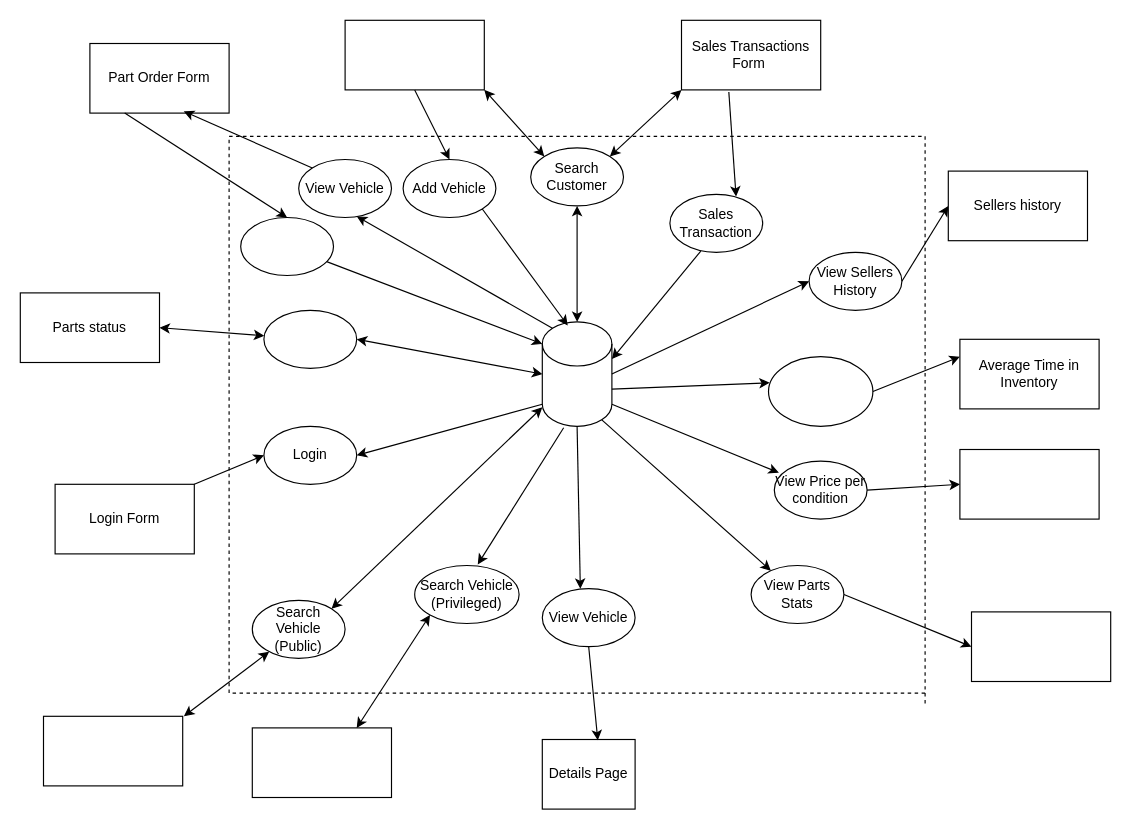
Some shapes in this 1131 by 829 pixel diagram are drawn without their labels. The shapes that lost their labels are listed below. From the top down, each one's centre as x and y in pixels, then its label:
At (x=414, y=54): "Add Vehicle Form".
At (x=287, y=246): "Parts Order".
At (x=310, y=338): "Parts Status Update".
At (x=576, y=373): "DB".
At (x=820, y=391): "View Average Time in Inventory".
At (x=1029, y=483): "Price Per Condition".
At (x=1040, y=646): "Parts Stats".
At (x=112, y=750): "Search Form/Details Page(Public)".
At (x=321, y=762): "Search Form (Privileged )".
